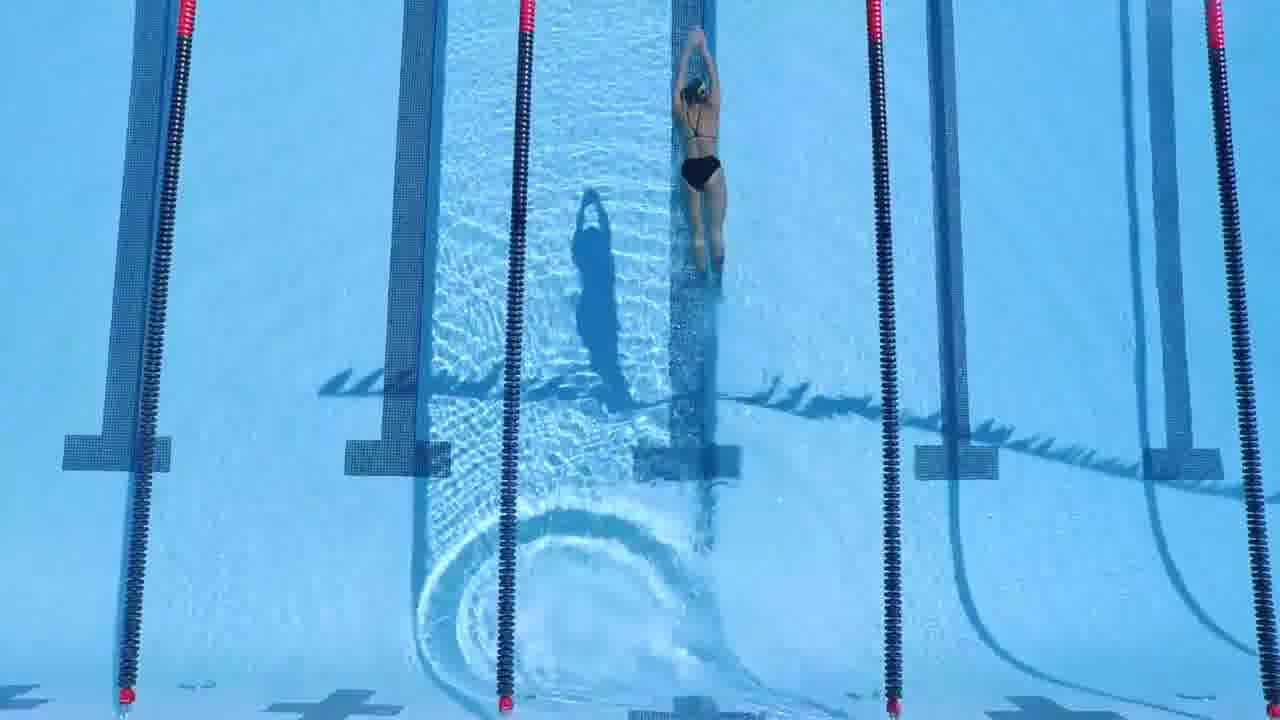human: (674, 22, 739, 280)
